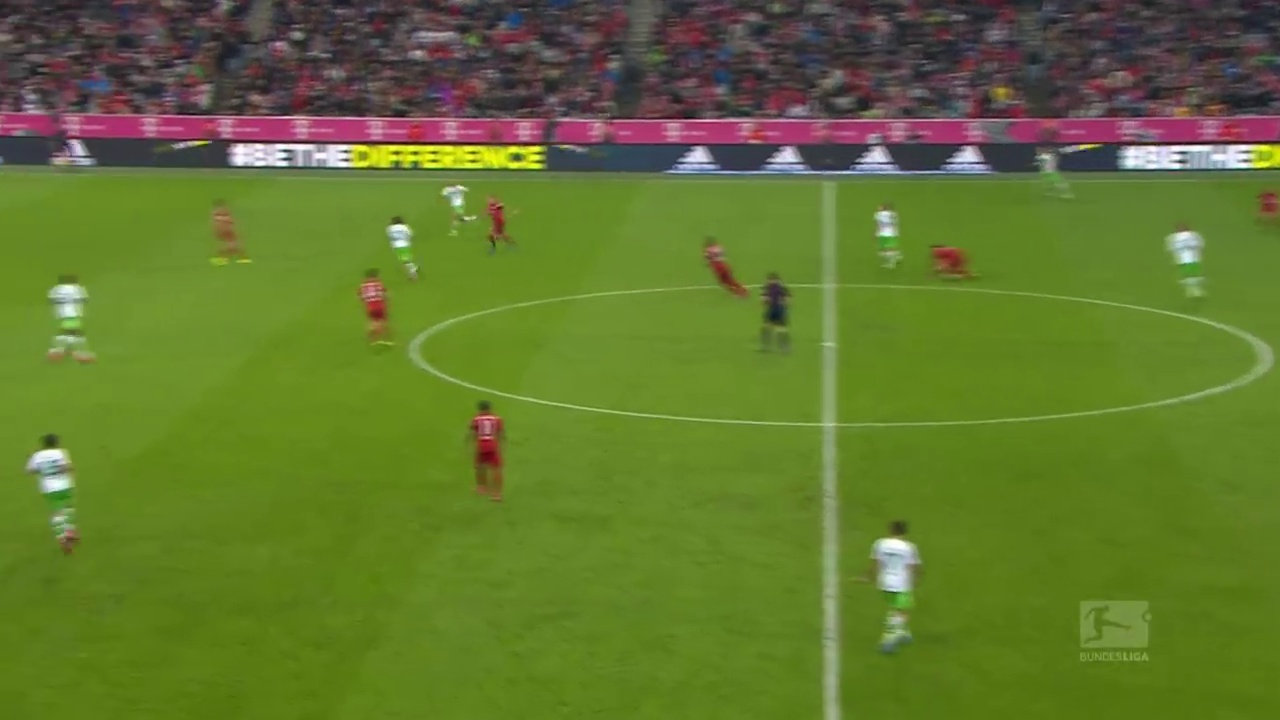blurry: (848, 512, 925, 653), (23, 430, 84, 554), (38, 266, 100, 367), (459, 395, 509, 505), (1157, 223, 1211, 305), (355, 265, 399, 351), (201, 194, 251, 267), (756, 269, 797, 356), (697, 234, 750, 299), (436, 175, 479, 239), (1030, 143, 1075, 199), (382, 216, 421, 280), (873, 200, 906, 272), (927, 243, 982, 283), (481, 189, 514, 255), (1249, 184, 1280, 229)
